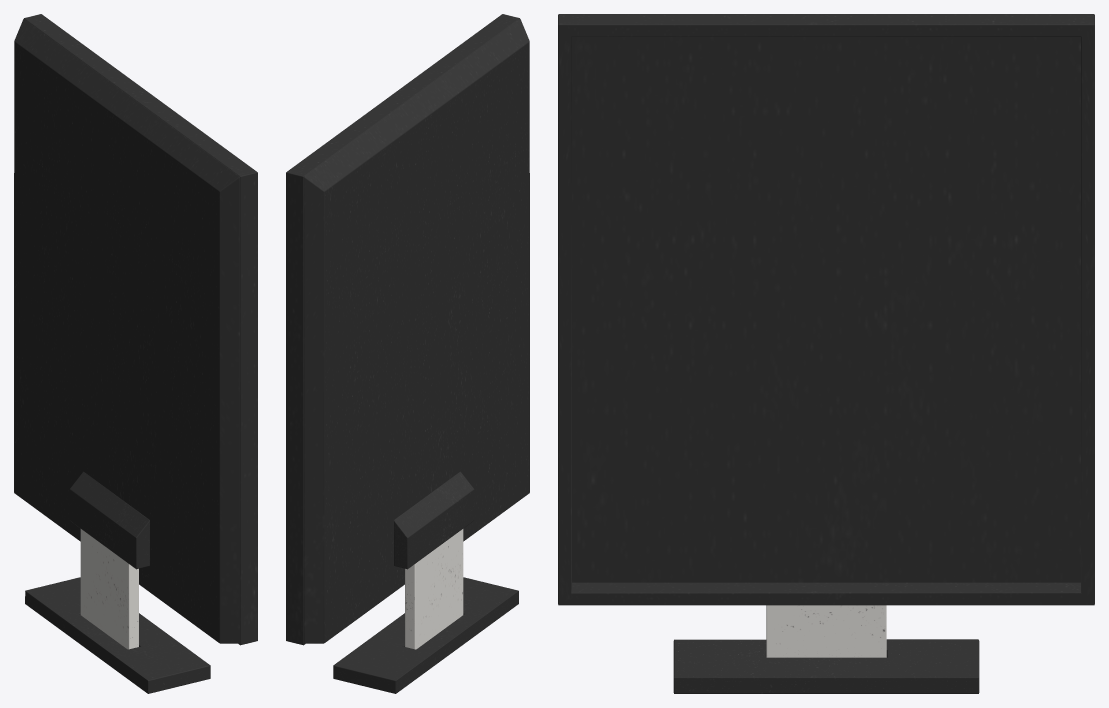
Rendered from tv_tall.glb.
The picture shows the model from 3 angles, left to right: view 1: azimuth 30°, elevation 25°; view 2: azimuth 150°, elevation 25°; view 3: azimuth 270°, elevation 25°; orthographic projection. The views are drawn at different scales.
Visible parts, largest first — view 1: tv.001; view 2: tv.001; view 3: tv.001.
Part boxes in pixels (x1,y1,x2,y2): tv.001: (14,14,257,693); tv.001: (286,14,529,693); tv.001: (558,14,1094,693).
Bounding box in the file's own units: 0.7101 × 5.79 × 4.2.
2 materials, 2 textured.
